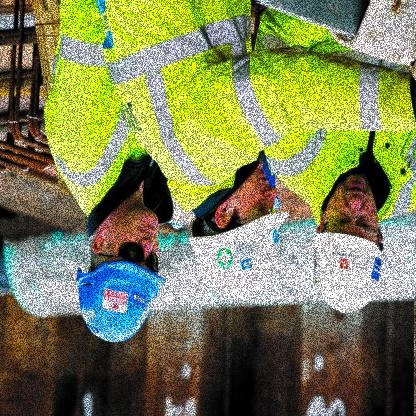blue: (72, 255, 172, 348)
vest: (90, 5, 287, 214), (252, 12, 414, 231), (39, 2, 174, 230)
white: (184, 204, 294, 305), (299, 231, 395, 317)
